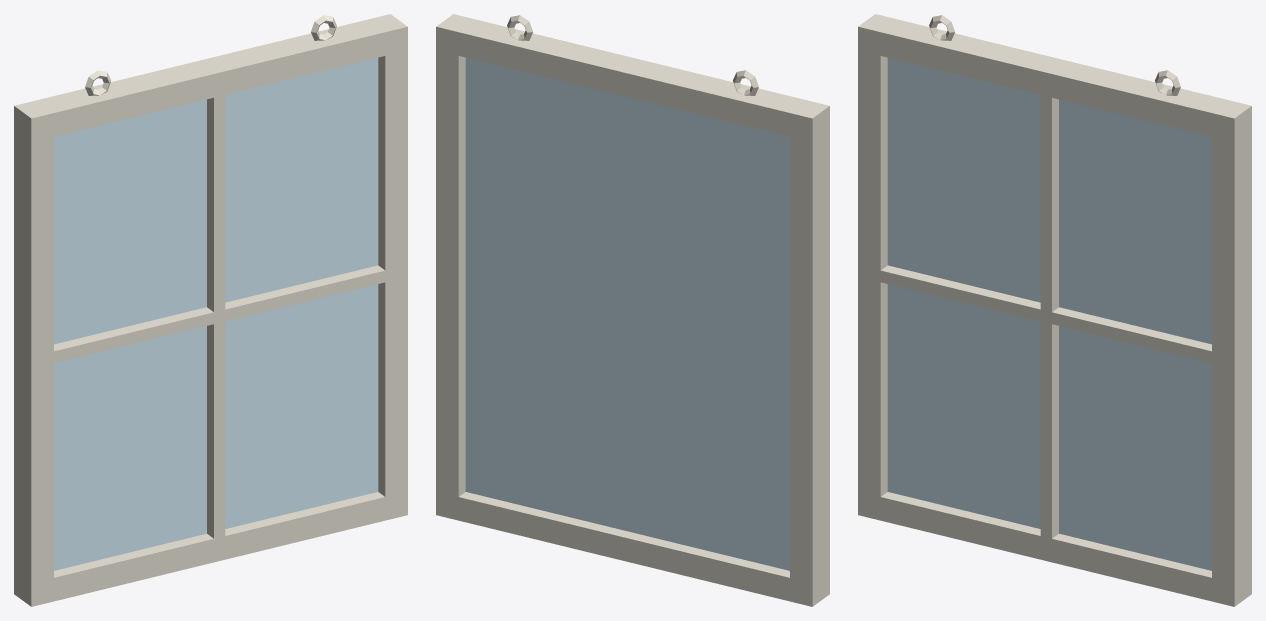
File: window.obj
3 views of the same model, side by side, from view 1: azimuth 30°, elevation 25°; view 2: azimuth 150°, elevation 25°; view 3: azimuth 330°, elevation 25° (orthographic).
Parts seen in each view (by area): view 1: glass_slab, frame_left, frame_top, frame_right, frame_bottom, mullion_vertical, mullion_right, mullion_left; view 2: glass_slab, frame_left, frame_top, frame_right, frame_bottom; view 3: glass_slab, frame_right, frame_top, frame_left, frame_bottom, mullion_vertical, mullion_left, mullion_right.
Part boxes in pixels (x1=…): glass_slab: x1=54, y1=57, x2=378, y2=570; frame_left: x1=14, y1=129, x2=53, y2=583; frame_top: x1=14, y1=14, x2=407, y2=141; frame_right: x1=378, y1=50, x2=407, y2=496; frame_bottom: x1=14, y1=491, x2=407, y2=606; mullion_vertical: x1=207, y1=95, x2=225, y2=538; mullion_right: x1=225, y1=265, x2=385, y2=321; mullion_left: x1=54, y1=307, x2=213, y2=362; glass_slab: x1=465, y1=57, x2=789, y2=570; frame_left: x1=790, y1=129, x2=829, y2=583; frame_top: x1=436, y1=14, x2=829, y2=141; frame_right: x1=436, y1=50, x2=465, y2=496; frame_bottom: x1=436, y1=491, x2=829, y2=606; glass_slab: x1=887, y1=57, x2=1211, y2=570; frame_right: x1=1212, y1=129, x2=1251, y2=583; frame_top: x1=858, y1=14, x2=1251, y2=141; frame_left: x1=858, y1=50, x2=887, y2=496; frame_bottom: x1=858, y1=491, x2=1251, y2=606; mullion_vertical: x1=1040, y1=95, x2=1058, y2=538; mullion_left: x1=880, y1=265, x2=1040, y2=321; mullion_right: x1=1052, y1=307, x2=1211, y2=362.
Size of the model in its own units: 2 by 2.6 by 0.16.
